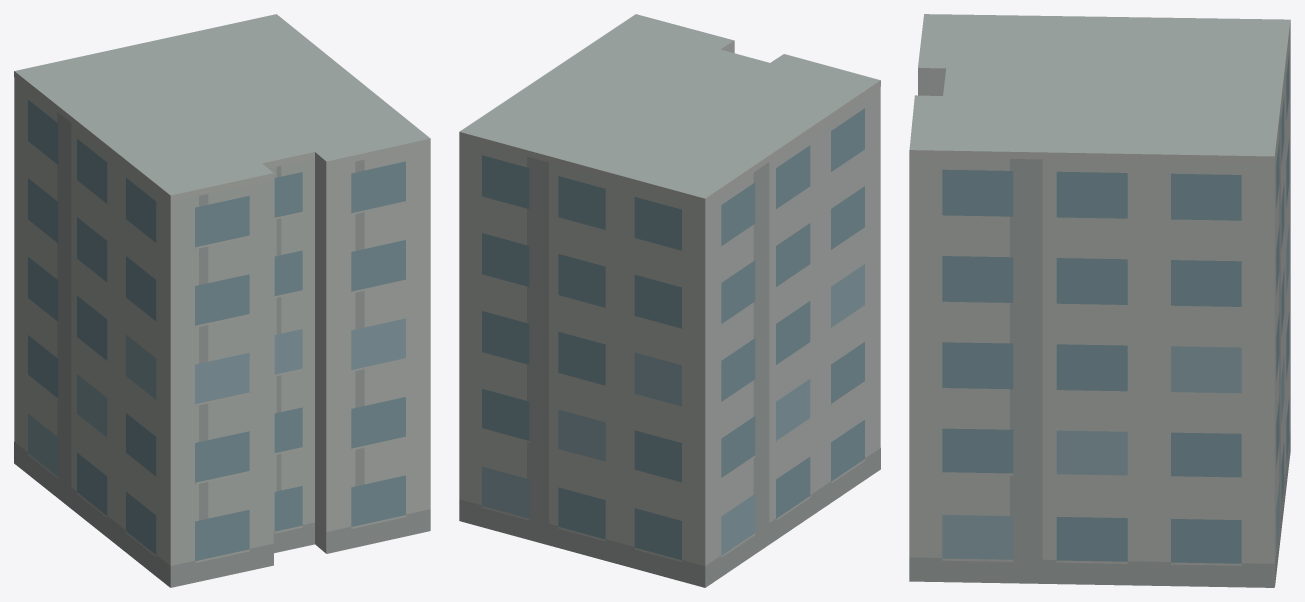
Rendered from survey-upis-32702934.glb.
3 renders of one model, left to right at view 1: azimuth 30°, elevation 25°; view 2: azimuth 150°, elevation 25°; view 3: azimuth 270°, elevation 25°, orthographic. The views are drawn at different scales.
Visible parts, largest first — view 1: survey-upis-32702934.tmp; view 2: survey-upis-32702934.tmp; view 3: survey-upis-32702934.tmp.
Boxes of the visible parts, x1=… form: survey-upis-32702934.tmp: x1=14, y1=14, x2=430, y2=587; survey-upis-32702934.tmp: x1=459, y1=14, x2=880, y2=587; survey-upis-32702934.tmp: x1=909, y1=14, x2=1290, y2=587.
Size of the model in its own units: 10.52 by 14.85 by 11.9.
